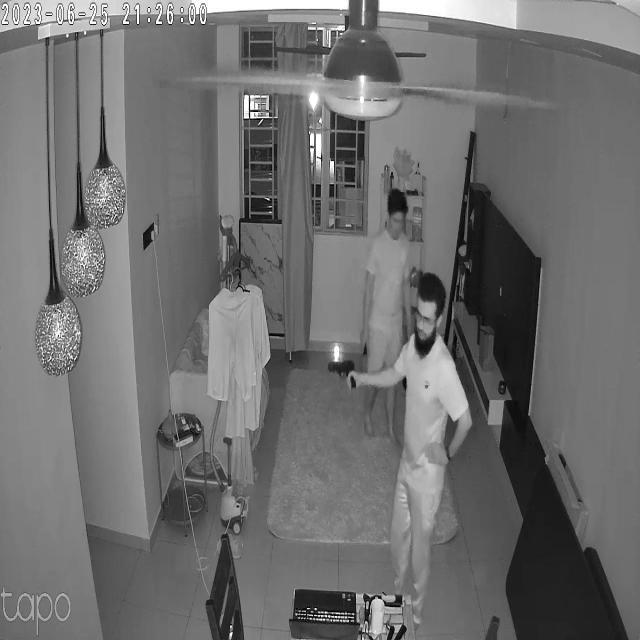Gun: (317, 351, 364, 390)
